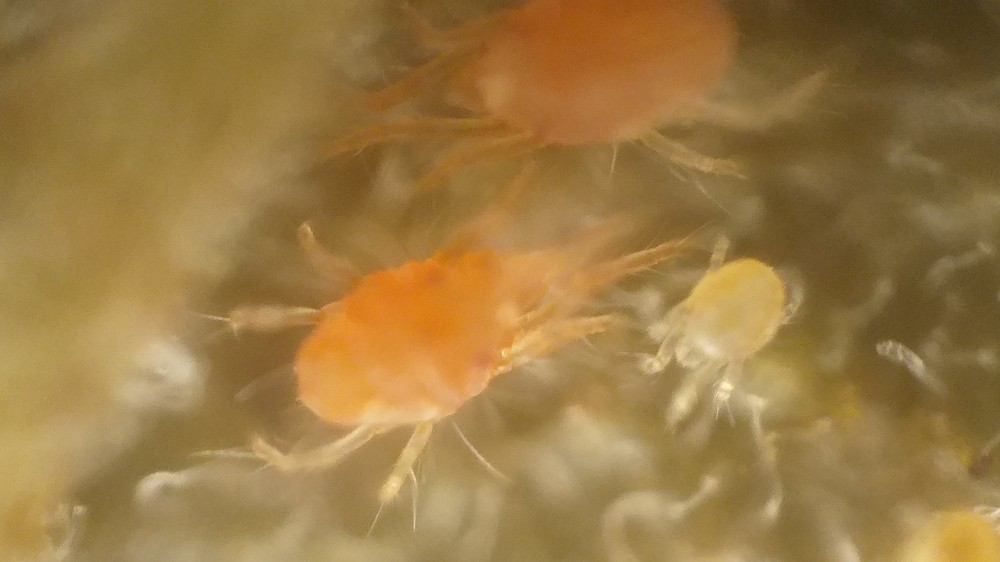Aracnido Rojo: (234, 195, 655, 486), (325, 3, 836, 209), (652, 244, 820, 435)
